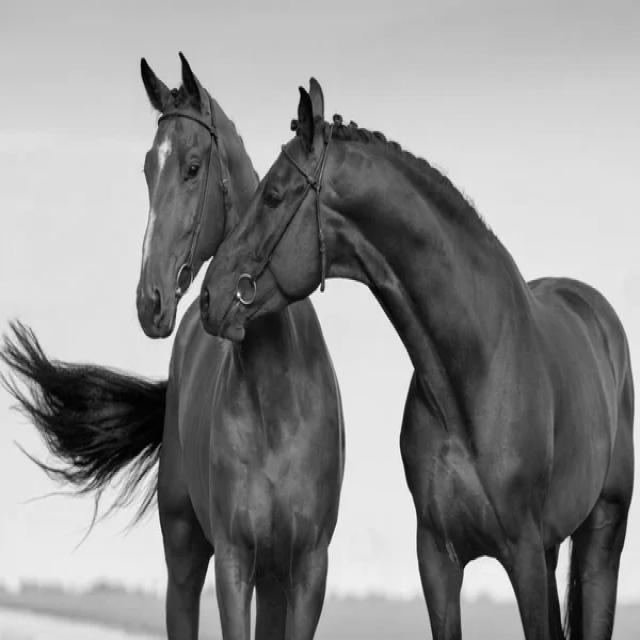Animal: (200, 81, 635, 640), (32, 59, 346, 640)
